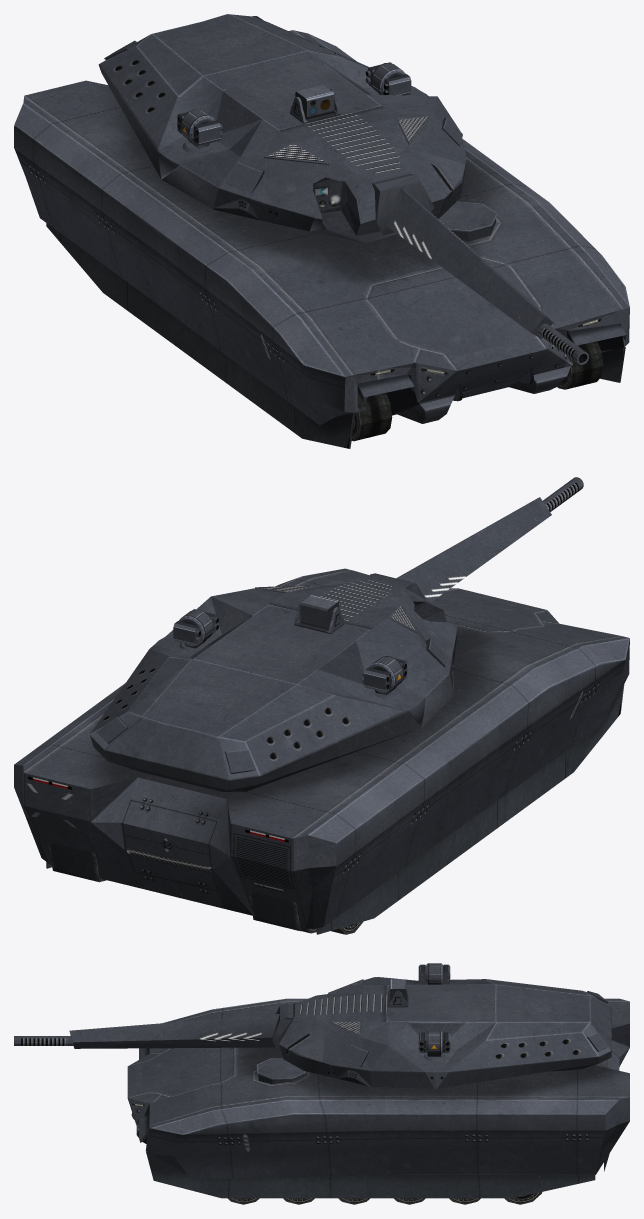
The picture shows the model from 3 angles, top to bottom: view 1: azimuth 30°, elevation 25°; view 2: azimuth 150°, elevation 25°; view 3: azimuth 270°, elevation 25°; orthographic projection. The views are drawn at different scales.
Visible parts, largest first — view 1: headusOBJexport, Object02, Object01, Object04, Object06; view 2: headusOBJexport, Object02, Object01; view 3: headusOBJexport, Object02, Object01.
Part boxes in pixels (x1,y1,x2,y2): headusOBJexport: (14,30,629,448); Object02: (98,14,466,242); Object01: (372,173,588,364); Object04: (351,391,392,441); Object06: (557,334,603,389); headusOBJexport: (14,568,629,934); Object02: (90,577,457,791); Object01: (368,477,583,602); headusOBJexport: (127,998,629,1198); Object02: (275,963,611,1088); Object01: (14,1003,293,1050).
Bounding box in the file's own units: 499 × 1132 × 356.
1 material, 1 textured.
